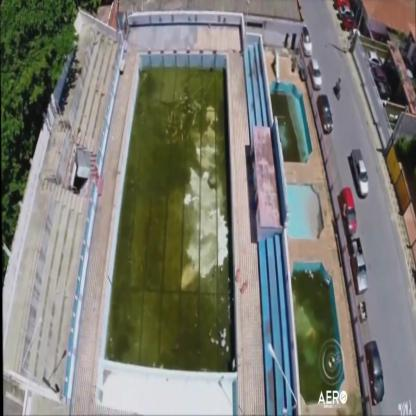agua: (132, 67, 225, 345), (299, 279, 336, 402), (283, 94, 291, 163)
